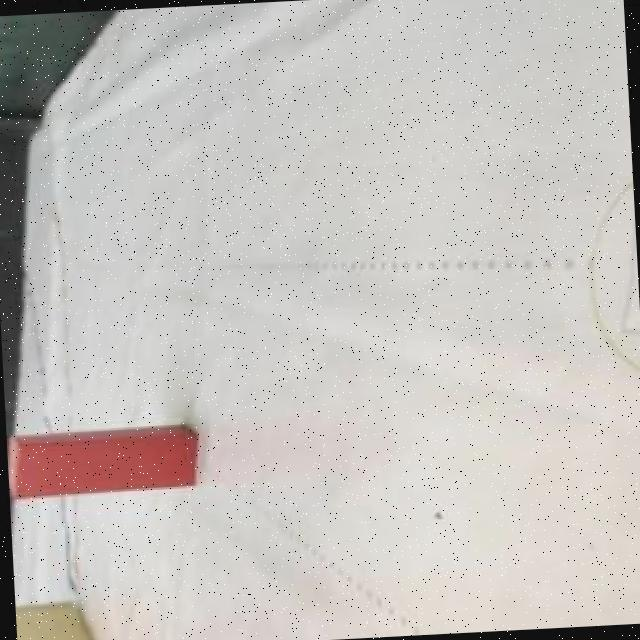redbox: (6, 423, 200, 502)
